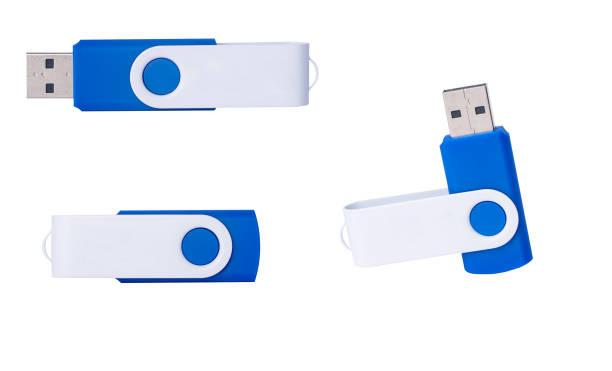USB Flash Drive: (343, 83, 533, 276), (28, 36, 310, 114), (45, 209, 263, 285)
